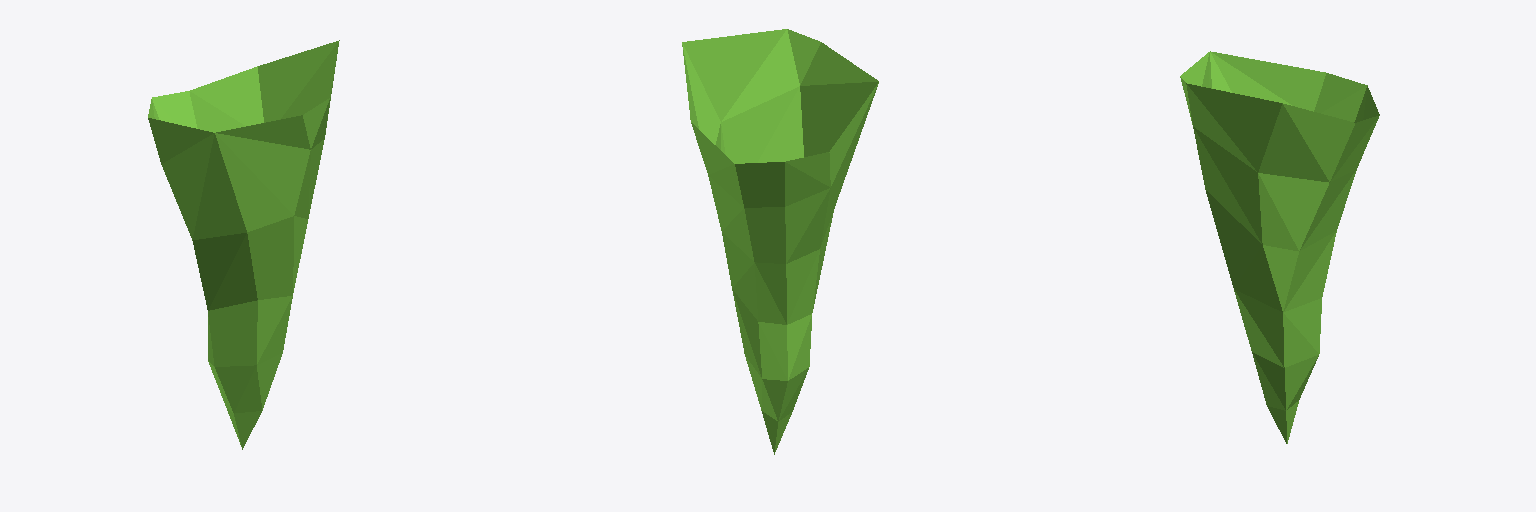
File: Stalagmite_Fragment3.obj
3 renders of one model, left to right at view 1: azimuth 30°, elevation 25°; view 2: azimuth 150°, elevation 25°; view 3: azimuth 270°, elevation 25°, orthographic.
Parts seen in each view (by area): view 1: Stalagmite_Fragment3; view 2: Stalagmite_Fragment3; view 3: Stalagmite_Fragment3.
Part boxes in pixels (bbox=[...]): Stalagmite_Fragment3: bbox=[148, 40, 339, 449]; Stalagmite_Fragment3: bbox=[682, 29, 878, 454]; Stalagmite_Fragment3: bbox=[1180, 51, 1379, 443].
Bounding box in the file's own units: 1.1 × 2.41 × 1.13.